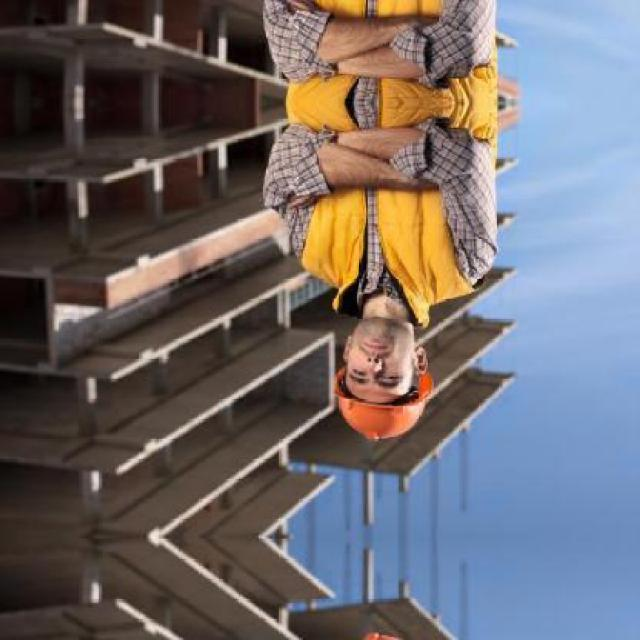safetyhelmet: (326, 333, 435, 445)
